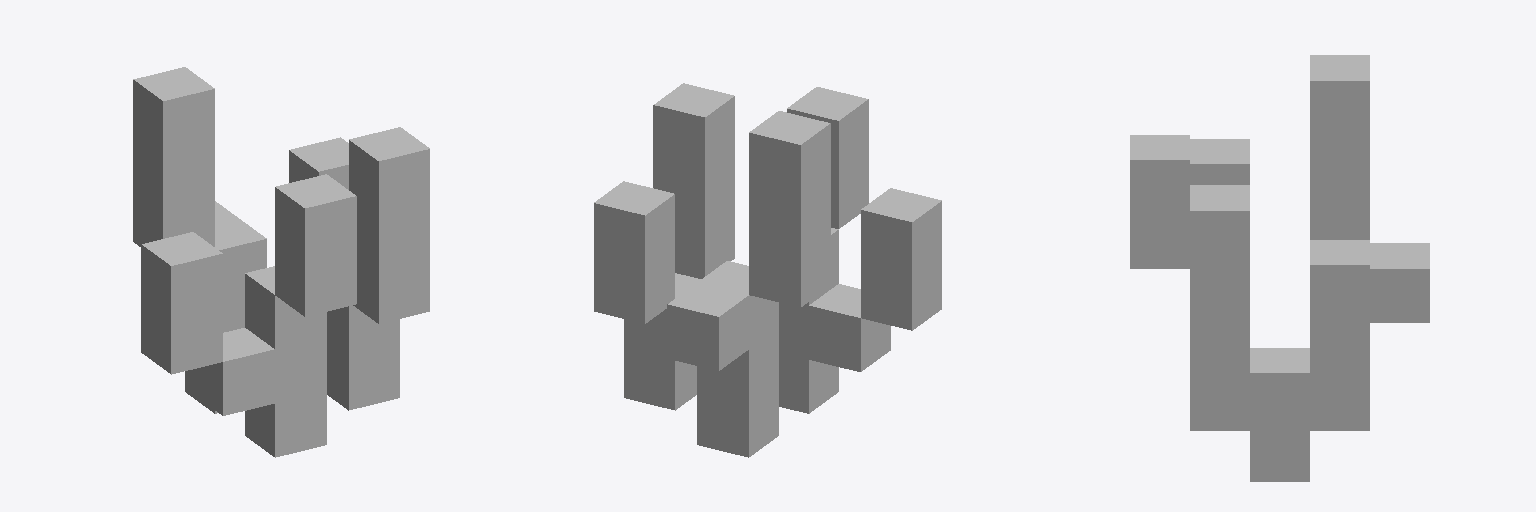
Rendered from Fern_V2.obj.
3 renders of one model, left to right at view 1: azimuth 30°, elevation 25°; view 2: azimuth 150°, elevation 25°; view 3: azimuth 270°, elevation 25°, orthographic.
Visible parts, largest first — view 1: Fern_V2; view 2: Fern_V2; view 3: Fern_V2.
Part boxes in pixels (x1,y1,x2,y2): Fern_V2: (133, 67, 429, 457); Fern_V2: (594, 83, 941, 457); Fern_V2: (1130, 55, 1429, 481).
Bounding box in the file's own units: 5 × 6 × 5.